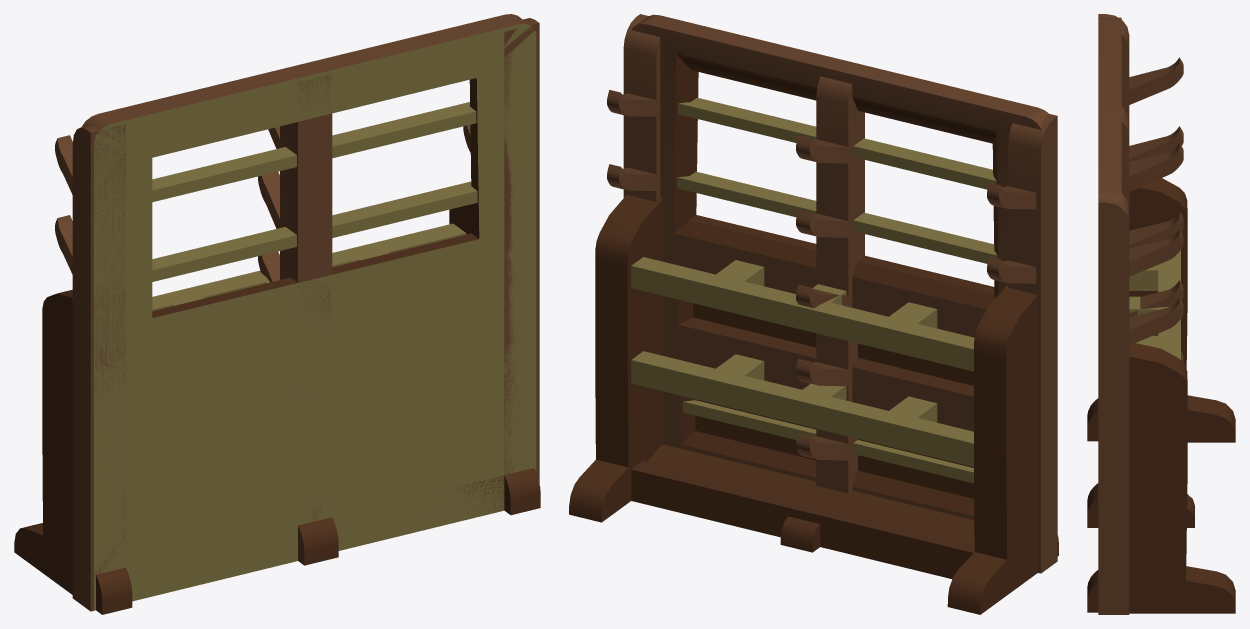
The model's file is WeaponRacks.fbx.
3 views of the same model, side by side, from view 1: azimuth 30°, elevation 25°; view 2: azimuth 150°, elevation 25°; view 3: azimuth 270°, elevation 25° (orthographic). The views are drawn at different scales.
Parts seen in each view (by area): view 1: WeaponRack01, WeaponRack02; view 2: WeaponRack01, WeaponRack02; view 3: WeaponRack01, WeaponRack02.
Boxes of the visible parts, left/top/right/bottom form: WeaponRack01: left=14, top=14, right=536, bottom=610; WeaponRack02: left=55, top=18, right=540, bottom=614; WeaponRack01: left=569, top=14, right=1048, bottom=614; WeaponRack02: left=607, top=14, right=1058, bottom=573; WeaponRack01: left=1098, top=17, right=1235, bottom=613; WeaponRack02: left=1087, top=14, right=1194, bottom=614.
Size of the model in its own units: 1.49 by 1.53 by 0.4955.
